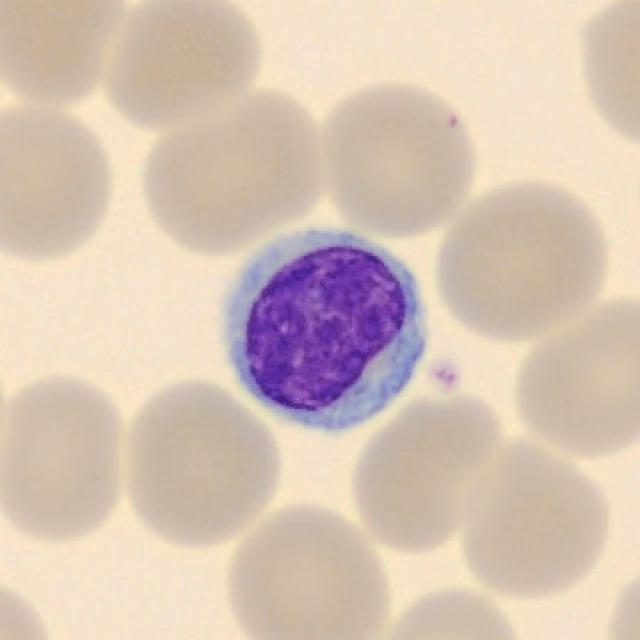Linfocito atipico: (222, 228, 430, 432)
